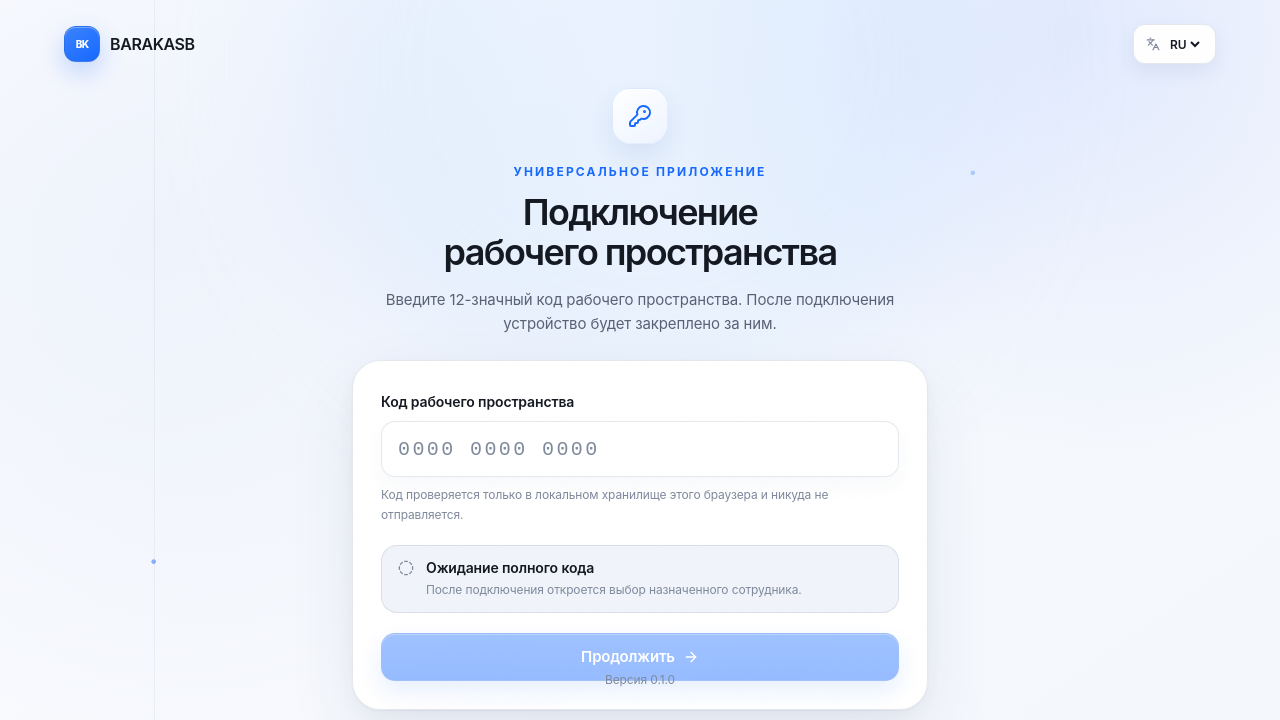
ConnectionScreen › shows validation feedback for an unknown Workspace Code
Type "999999999999" into the field labelled "Код рабочего пространства". click: (640,449)
box: [381, 421, 899, 477]
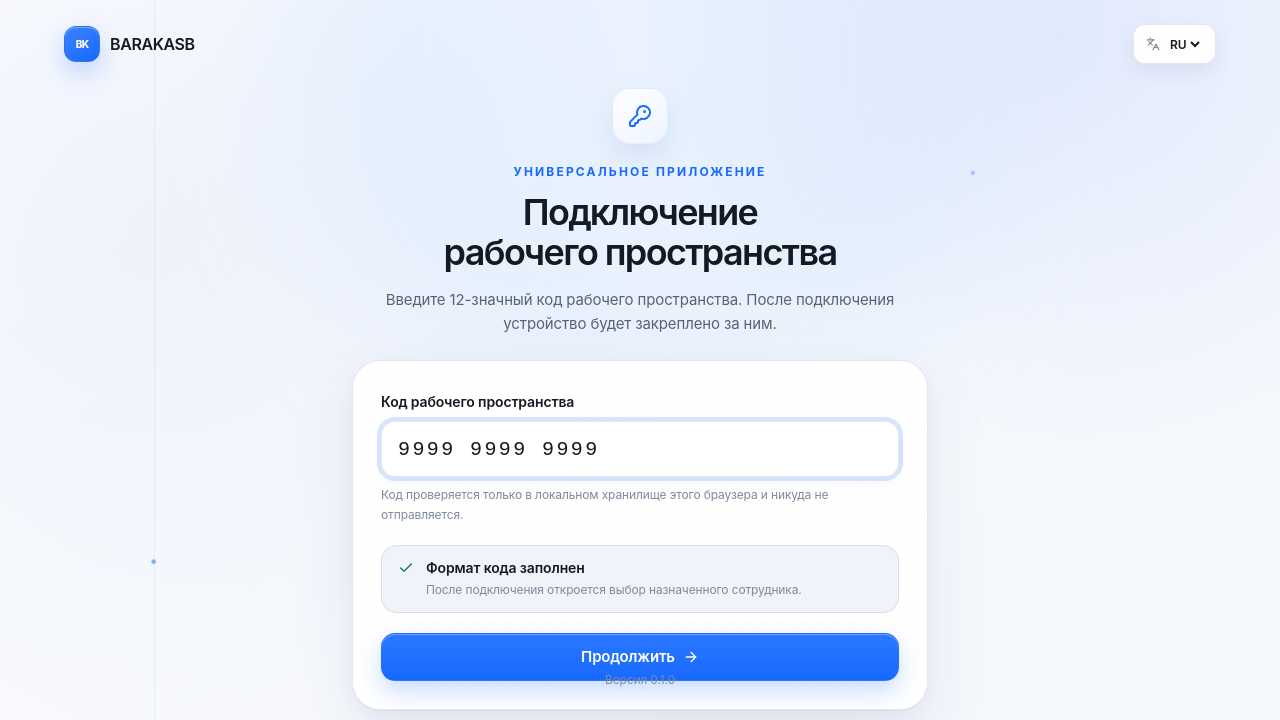
Click the button "Продолжить". click: (640,657)
box: [381, 633, 899, 681]
(page scrolled)
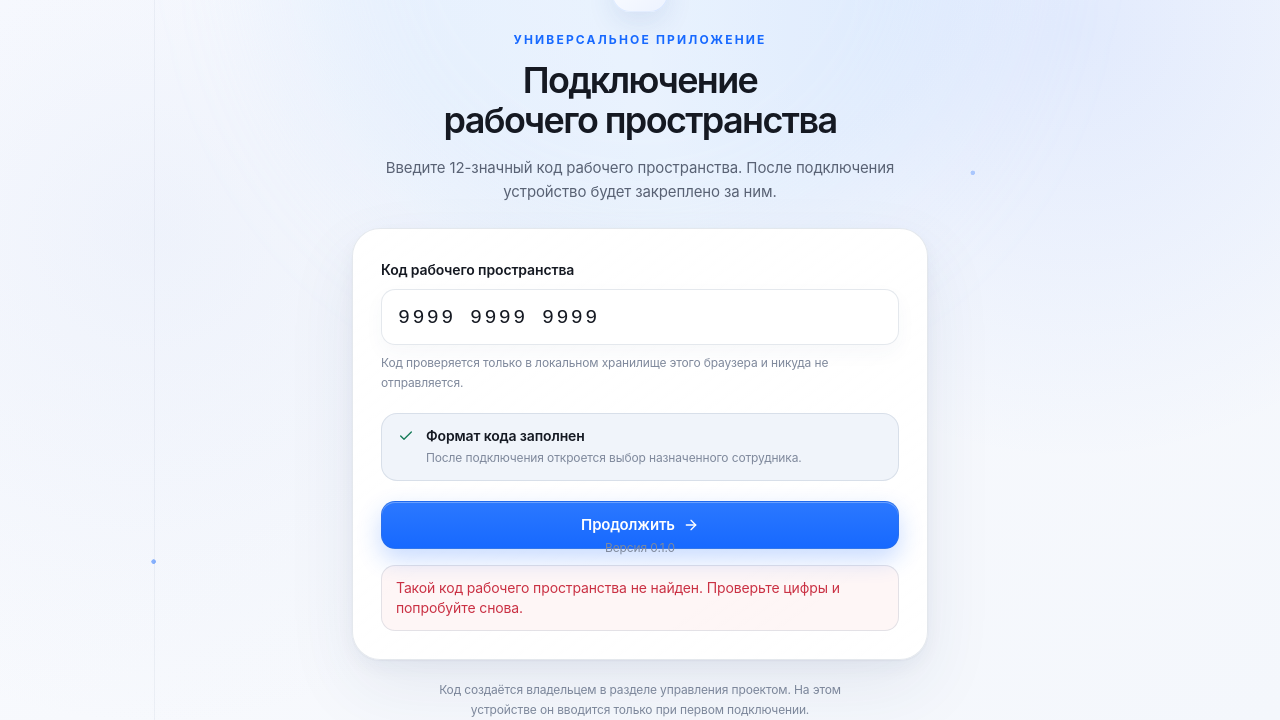
Expected: the message shows "Такой код рабочего пространства не найден.", [396, 579, 840, 616]
